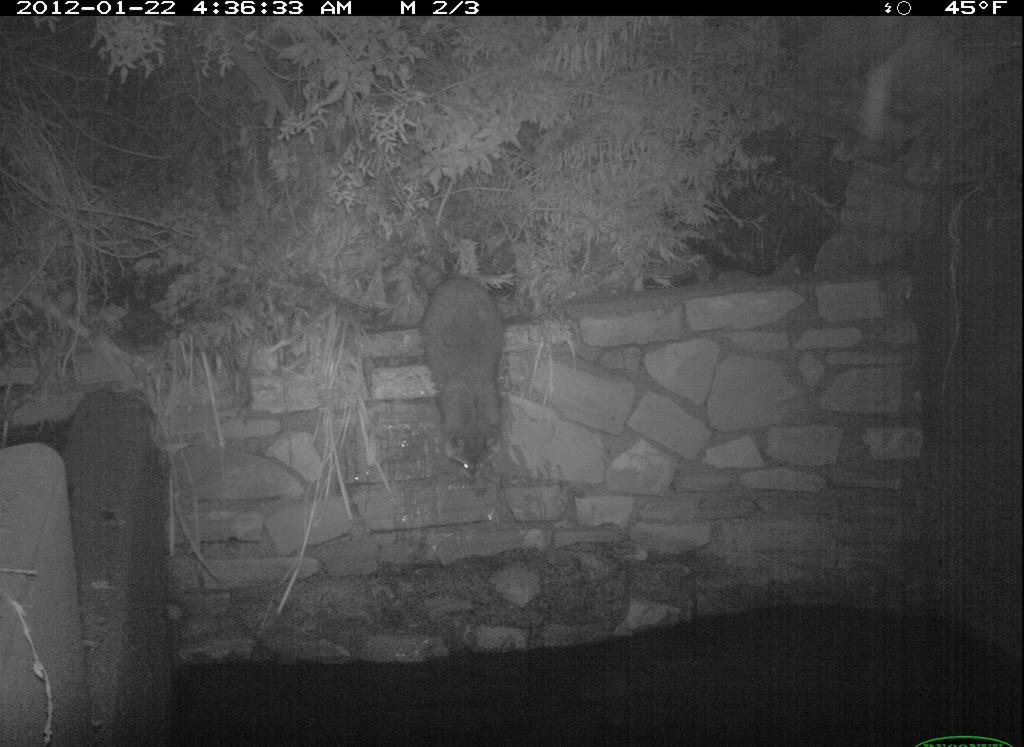raccoon: (400, 249, 506, 481)
